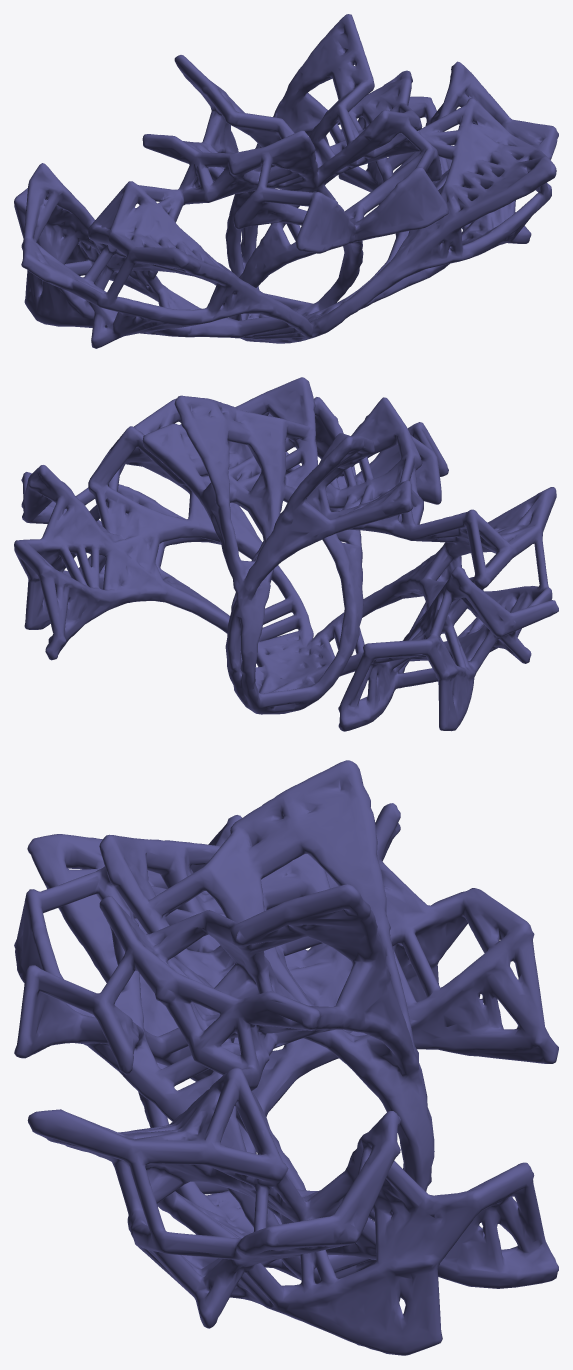
3 renders of one model, top to bottom at view 1: azimuth 30°, elevation 25°; view 2: azimuth 150°, elevation 25°; view 3: azimuth 270°, elevation 25°, orthographic. The views are drawn at different scales.
Visible parts, largest first — view 1: BRAIN.003; view 2: BRAIN.003; view 3: BRAIN.003.
Boxes of the visible parts, bbox=[...] form: BRAIN.003: bbox=[14, 14, 558, 348]; BRAIN.003: bbox=[14, 377, 558, 731]; BRAIN.003: bbox=[14, 760, 558, 1355].
Size of the model in its own units: 11.29 by 5.99 by 6.54.
